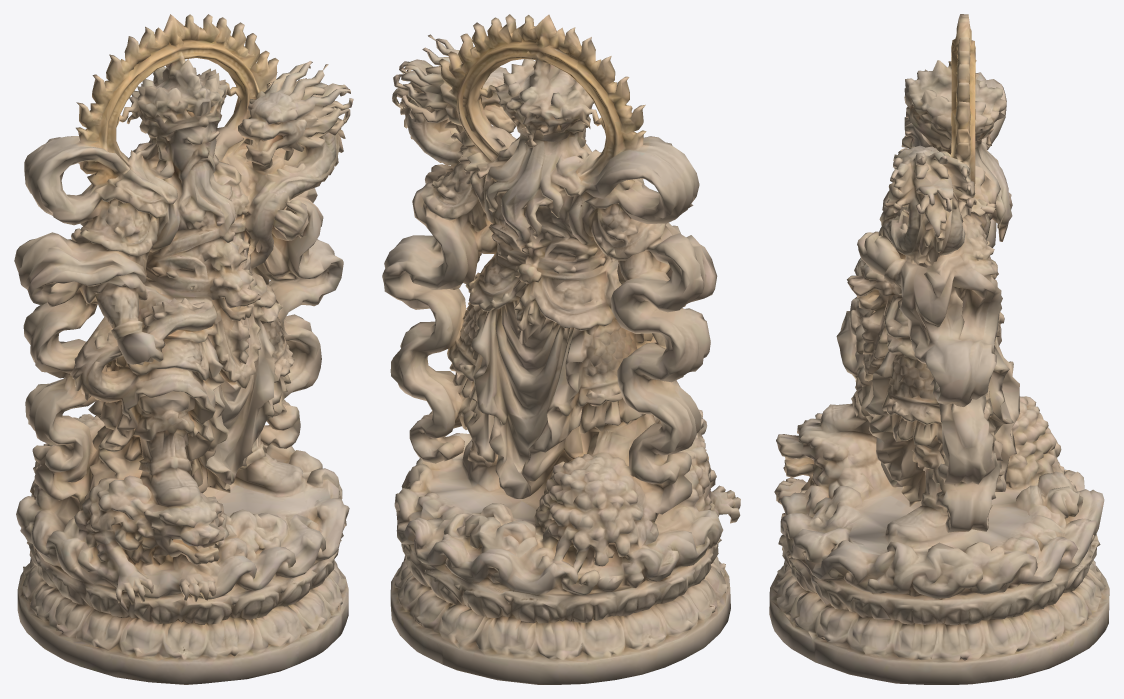
The picture shows the model from 3 angles, left to right: view 1: azimuth 30°, elevation 25°; view 2: azimuth 150°, elevation 25°; view 3: azimuth 270°, elevation 25°; orthographic projection. The views are drawn at different scales.
Parts seen in each view (by area): view 1: four-heavenly-kings-04; view 2: four-heavenly-kings-04; view 3: four-heavenly-kings-04.
Part boxes in pixels (x1,y1,x2,y2): four-heavenly-kings-04: (14,14,353,684); four-heavenly-kings-04: (382,14,740,684); four-heavenly-kings-04: (769,14,1109,684).
Bounding box in the file's own units: 0.5622 × 0.999 × 0.5177.
1 material, 1 textured.
